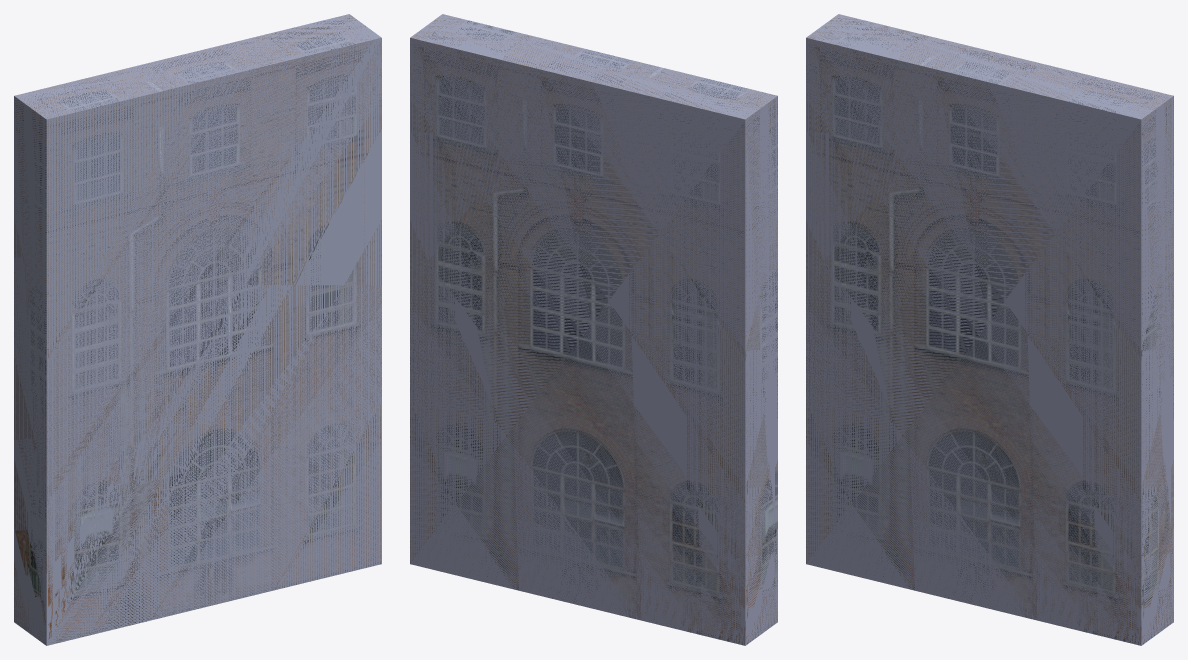
File: borderBuilding4.fbx
3 renders of one model, left to right at view 1: azimuth 30°, elevation 25°; view 2: azimuth 150°, elevation 25°; view 3: azimuth 330°, elevation 25°, orthographic.
Parts seen in each view (by area): view 1: Model; view 2: Model; view 3: Model.
Part boxes in pixels (x1,y1,x2,y2): Model: (14,14,381,645); Model: (410,14,777,645); Model: (806,14,1173,645).
Size of the model in its own units: 4 by 6 by 0.67.
3 materials, 1 textured.
